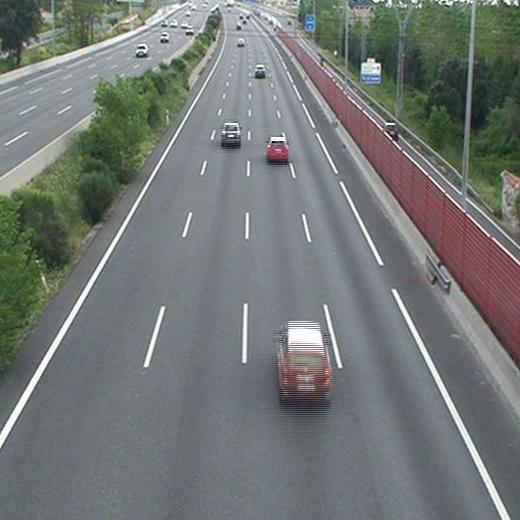car: (277, 324, 331, 399), (266, 137, 289, 160), (222, 123, 240, 144), (254, 65, 265, 77), (237, 37, 246, 47)
